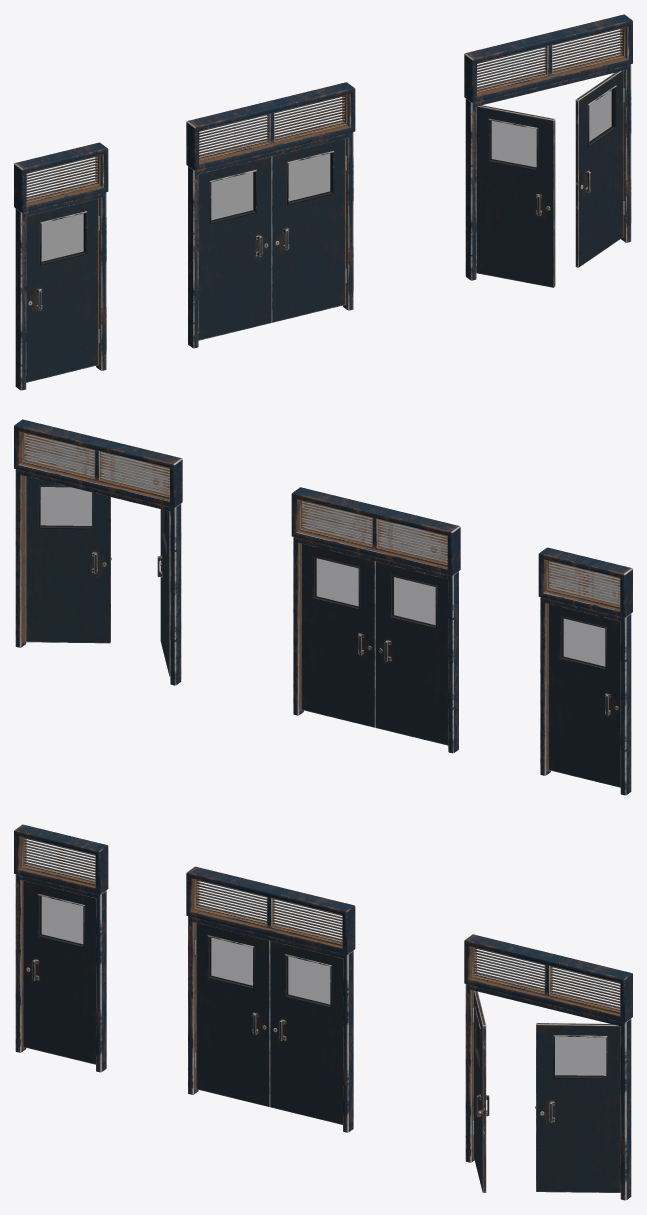
Rendered from factory_door_16_mb.glb.
The picture shows the model from 3 angles, top to bottom: view 1: azimuth 30°, elevation 25°; view 2: azimuth 150°, elevation 25°; view 3: azimuth 330°, elevation 25°; orthographic projection.
Parts seen in each view (by area): view 1: L, FM, FM_2_2, R_2_2, L_2, R_2, FM_2, R; view 2: FM, R, FM_2_2, R_2_2, L_2, R_2, FM_2, L; view 3: R, FM, FM_2_2, L_2, R_2, R_2_2, FM_2, L.
Boxes of the visible parts, left/top/right/bottom form: L: left=476, top=105, right=555, bottom=287; FM: left=464, top=14, right=632, bottom=280; FM_2_2: left=186, top=82, right=355, bottom=348; R_2_2: left=271, top=138, right=345, bottom=322; L_2: left=198, top=156, right=271, bottom=340; R_2: left=26, top=199, right=98, bottom=382; FM_2: left=14, top=142, right=108, bottom=390; R: left=575, top=71, right=623, bottom=267; FM: left=14, top=419, right=182, bottom=685; R: left=25, top=476, right=111, bottom=643; FM_2_2: left=291, top=487, right=460, bottom=753; R_2_2: left=301, top=543, right=375, bottom=727; L_2: left=375, top=562, right=448, bottom=745; R_2: left=548, top=604, right=620, bottom=787; FM_2: left=538, top=547, right=632, bottom=795; L: left=157, top=509, right=170, bottom=676; R: left=535, top=1023, right=620, bottom=1192; FM: left=464, top=934, right=632, bottom=1200; FM_2_2: left=186, top=866, right=355, bottom=1132; L_2: left=196, top=923, right=269, bottom=1106; R_2: left=23, top=880, right=95, bottom=1064; R_2_2: left=270, top=941, right=342, bottom=1124; FM_2: left=14, top=824, right=108, bottom=1072; L: left=474, top=990, right=489, bottom=1192.
Size of the model in its own units: 8.92 by 3.1 by 1.01.
Materials: 4 (2 with a texture image).
